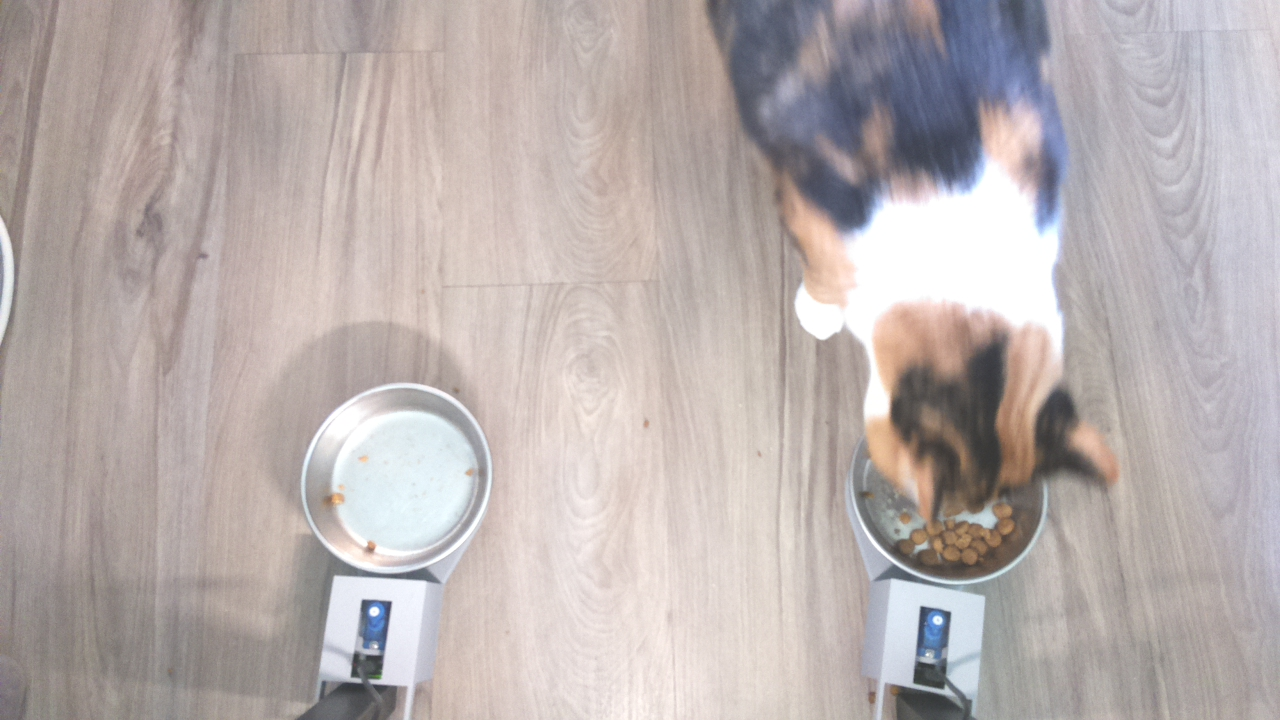bella_eating: (830, 291, 1140, 589)
open_bowl: (298, 378, 502, 582)
